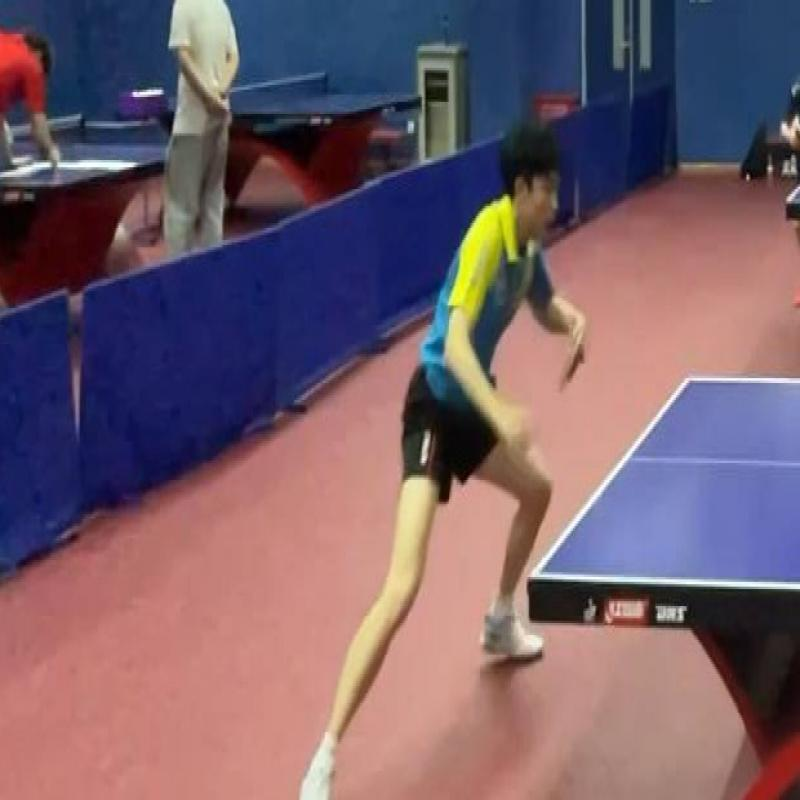bats: (556, 332, 590, 398)
